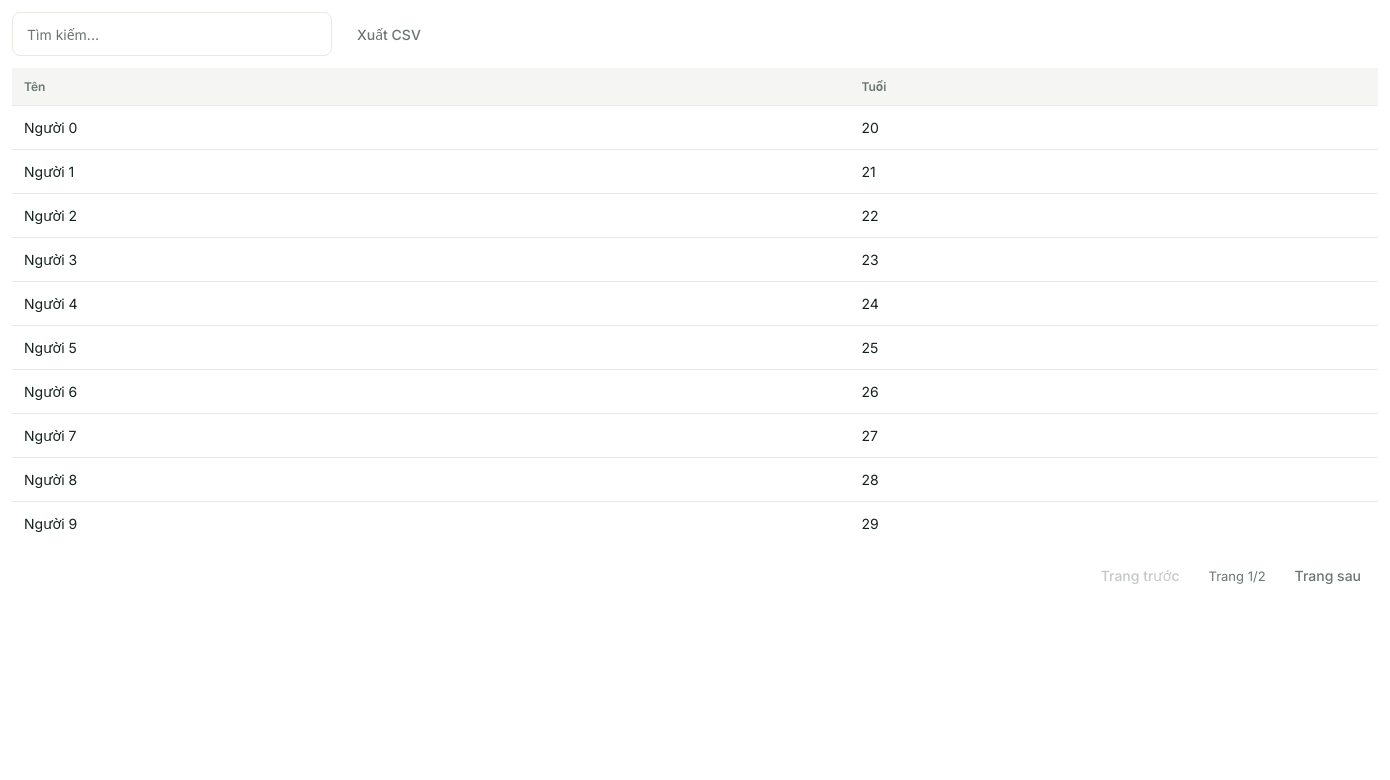
Test: renders rows and paginates at pageSize
This screenshot has width=1390, height=780.
Expected: the text "Người 0" is shown, [12,106,849,150]
Expected: the text "Người 11" is not shown
Click the button "Trang sau". click: (1328, 576)
box: [1278,558,1378,594]
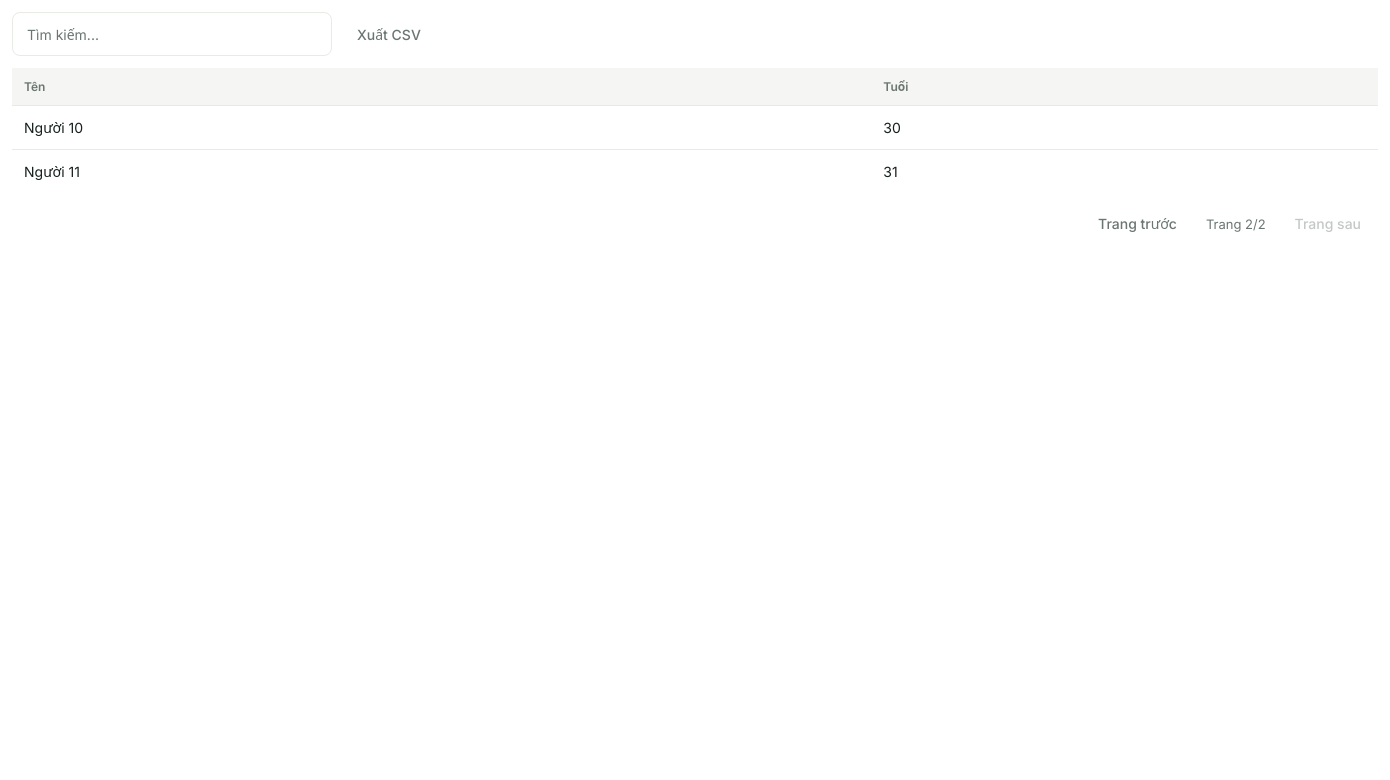
Result: the text "Người 11" is shown at [12,150,871,193]
